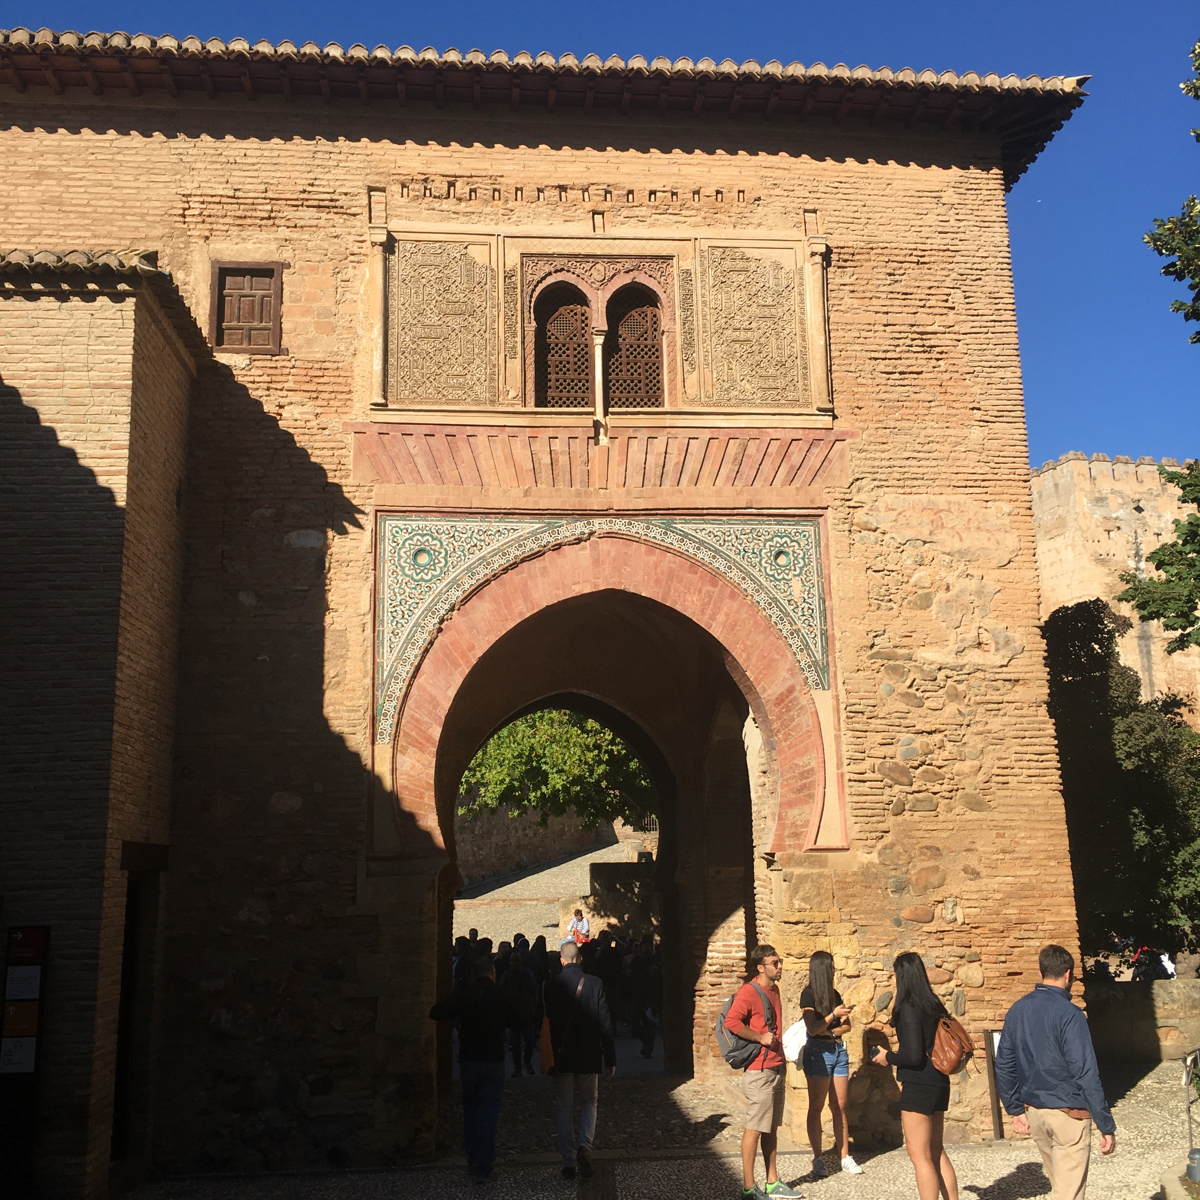arco-herradura: (396, 566, 815, 892), (596, 274, 669, 349)
dintel-adovelado: (357, 422, 824, 497)
